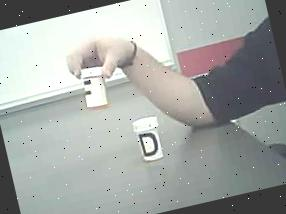Bottle D: (130, 110, 170, 170)
Bottle F: (75, 60, 121, 122)
